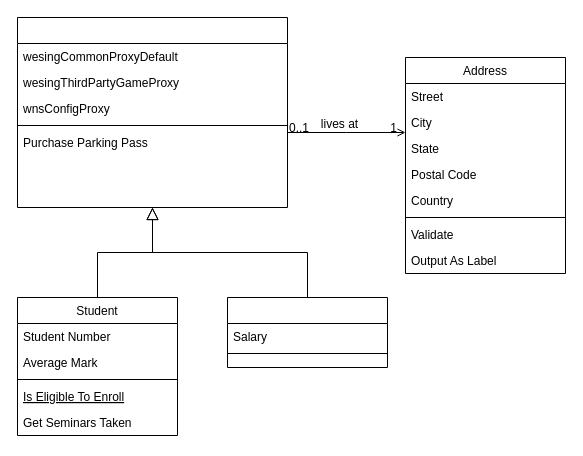
The diagram is 583 pixels wide and 456 high, and some of its shapes have lost their labels. The shapes that lost their labels are listed below. From the top down, each one's box as (x1, y1, x2, y2) in pixels, then its label:
(16, 16, 288, 208): HippyInitController.kt
(226, 296, 388, 368): Professor
